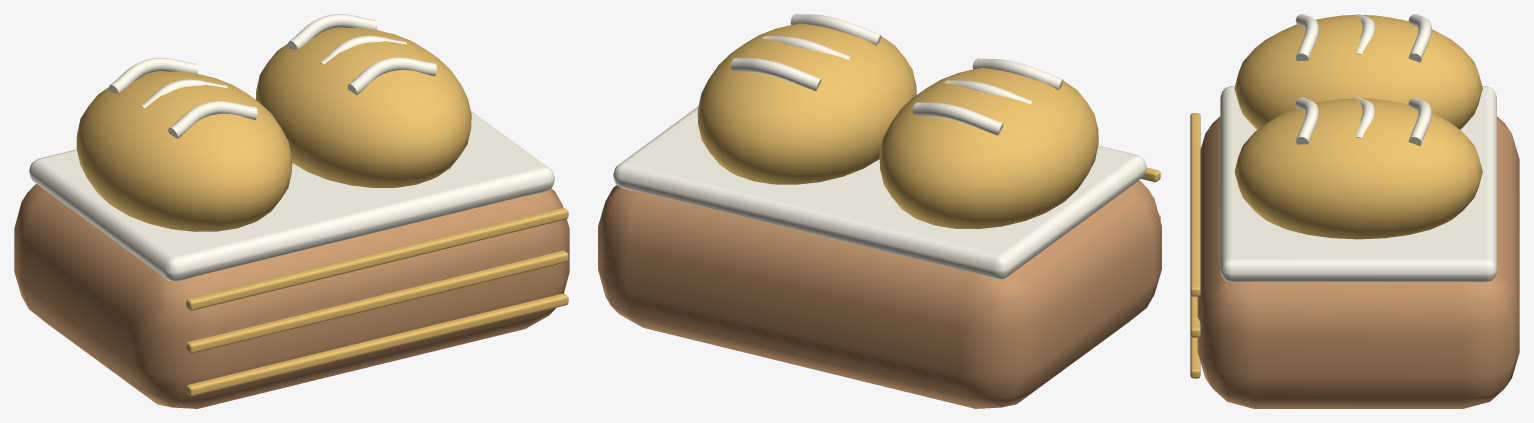
The model's file is kitchenBreadBasket.glb.
3 views of the same model, side by side, from view 1: azimuth 30°, elevation 25°; view 2: azimuth 150°, elevation 25°; view 3: azimuth 270°, elevation 25° (orthographic). The views are drawn at different scales.
Visible parts, largest first — view 1: Woven basket, Linen napkin, Bread loaf, Bread loaf.001, Basket weave, Basket weave.002, Basket weave.001, Bread scoring.003, Bread scoring, Bread scoring.002, Bread scoring.005, Bread scoring.004 (+1 smaller); view 2: Woven basket, Linen napkin, Bread loaf, Bread loaf.001, Bread scoring.002, Bread scoring.005, Bread scoring.003, Bread scoring, Bread scoring.004, Bread scoring.001; view 3: Woven basket, Bread loaf.001, Linen napkin, Bread loaf, Basket weave.002, Bread scoring.003, Bread scoring, Bread scoring.002, Bread scoring.005, Bread scoring.004, Bread scoring.001, Basket weave (+1 smaller).
Boxes of the visible parts, x1,y1,x2,y2 form: Woven basket: [14, 184, 569, 408]; Linen napkin: [29, 111, 554, 281]; Bread loaf: [76, 71, 292, 231]; Bread loaf.001: [256, 27, 471, 187]; Basket weave: [186, 293, 568, 396]; Basket weave.002: [186, 207, 568, 310]; Basket weave.001: [186, 250, 568, 353]; Bread scoring.003: [347, 57, 436, 94]; Bread scoring: [168, 101, 257, 138]; Bread scoring.002: [109, 57, 198, 93]; Bread scoring.005: [288, 14, 377, 49]; Bread scoring.004: [319, 35, 406, 64]; Woven basket: [598, 180, 1161, 408]; Linen napkin: [613, 106, 1146, 279]; Bread loaf: [879, 68, 1098, 229]; Bread loaf.001: [697, 23, 916, 184]; Bread scoring.002: [912, 102, 1003, 135]; Bread scoring.005: [730, 58, 821, 91]; Bread scoring.003: [790, 14, 881, 45]; Bread scoring: [972, 58, 1063, 89]; Bread scoring.004: [762, 36, 850, 59]; Bread scoring.001: [944, 80, 1032, 104]; Woven basket: [1197, 116, 1519, 408]; Bread loaf.001: [1234, 98, 1482, 239]; Linen napkin: [1220, 86, 1496, 282]; Bread loaf: [1234, 15, 1482, 129]; Basket weave.002: [1190, 113, 1200, 296]; Bread scoring.003: [1295, 97, 1318, 144]; Bread scoring: [1295, 14, 1318, 61]; Bread scoring.002: [1408, 14, 1431, 62]; Bread scoring.005: [1408, 97, 1431, 145]; Bread scoring.004: [1355, 97, 1374, 138]; Bread scoring.001: [1355, 14, 1374, 54]; Basket weave: [1190, 335, 1200, 378].
Bounding box in the file's own units: 0.84 × 0.4965 × 0.583.
